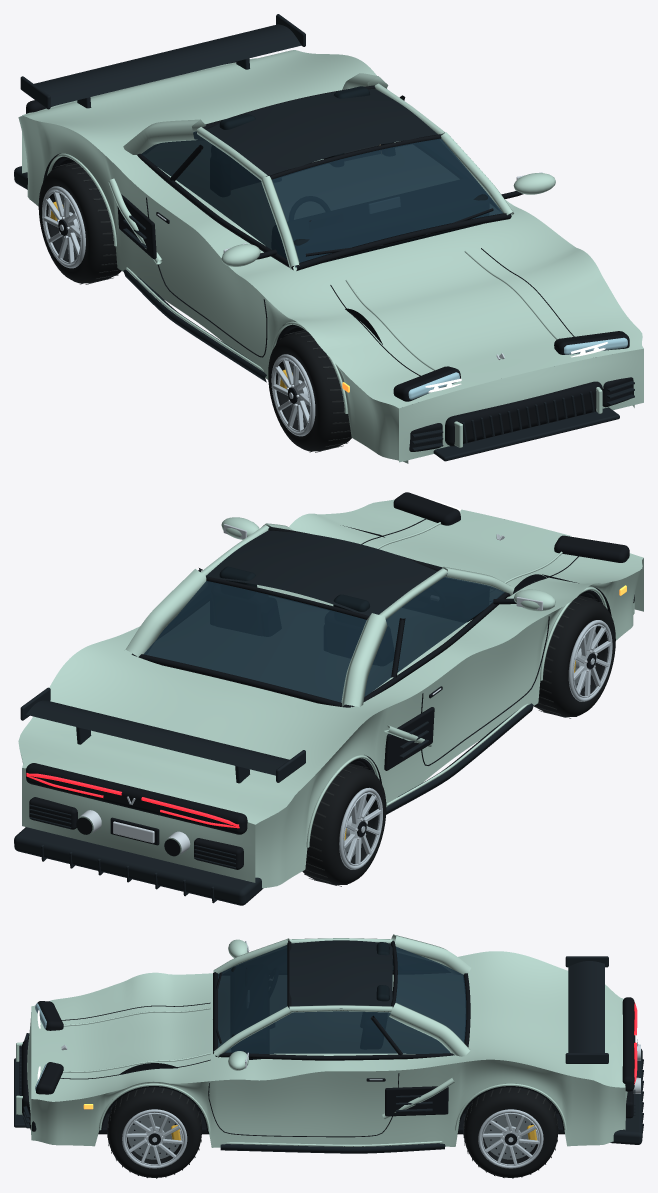
The model's file is AFTERLIGHT-vesper.glb.
The picture shows the model from 3 angles, top to bottom: view 1: azimuth 30°, elevation 25°; view 2: azimuth 150°, elevation 25°; view 3: azimuth 270°, elevation 25°; orthographic projection. The views are drawn at different scales.
Parts seen in each view (by area): view 1: batch:pearlescent body paint, batch:graphite composite (×2), batch:smoked laminated glass, batch:satin black trim, batch:tire rubber (×2), batch:forged brushed alloy (×2), batch:seat bolsters, batch:headlamp optical lenses; view 2: batch:pearlescent body paint, batch:graphite composite (×2), batch:smoked laminated glass, batch:satin black trim, batch:tire rubber (×2), batch:forged brushed alloy (×2), batch:polished metal, batch:rear light emitters, batch:seat bolsters; view 3: batch:pearlescent body paint, batch:smoked laminated glass, batch:graphite composite (×2), batch:satin black trim, batch:tire rubber (×2), batch:forged brushed alloy (×2), batch:machined rotor steel (×2), batch:seat bolsters.
Boxes of the visible parts, box(x1,y1,x2,y2) form: batch:pearlescent body paint: box(18, 50, 643, 463); batch:graphite composite (×2): box(14, 14, 634, 461); batch:smoked laminated glass: box(141, 131, 502, 267); batch:satin black trim: box(26, 61, 633, 451); batch:tire rubber (×2): box(38, 162, 351, 451); batch:forged brushed alloy (×2): box(42, 186, 315, 436); batch:seat bolsters: box(219, 86, 487, 262); batch:headlamp optical lenses: box(408, 337, 627, 399); batch:pearlescent body paint: box(18, 499, 643, 888); batch:graphite composite (×2): box(14, 530, 533, 905); batch:smoked laminated glass: box(144, 566, 504, 702); batch:satin black trim: box(26, 492, 634, 869); batch:tire rubber (×2): box(302, 596, 615, 884); batch:forged brushed alloy (×2): box(339, 620, 612, 869); batch:polished metal: box(79, 524, 542, 855); batch:rear light emitters: box(26, 773, 239, 828); batch:seat bolsters: box(219, 566, 481, 622); batch:pearlescent body paint: box(16, 934, 627, 1147); batch:smoked laminated glass: box(218, 945, 466, 1053); batch:graphite composite (×2): box(14, 940, 643, 1153); batch:satin black trim: box(21, 940, 634, 1137); batch:tire rubber (×2): box(107, 1087, 558, 1177); batch:forged brushed alloy (×2): box(122, 1109, 543, 1168); batch:machined rotor steel (×2): box(127, 1112, 535, 1159); batch:seat bolsters: box(231, 942, 389, 1059).
Bounding box in the file's own units: 2.34 × 1.37 × 4.95.
